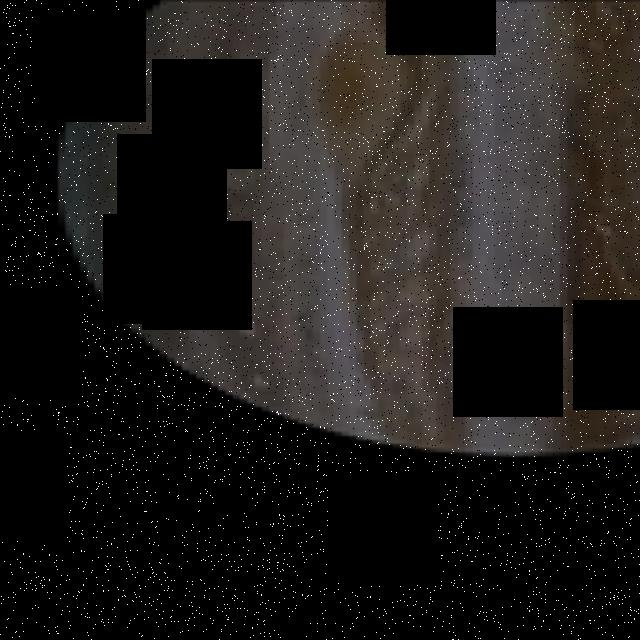Jupiter: (58, 0, 640, 456)
